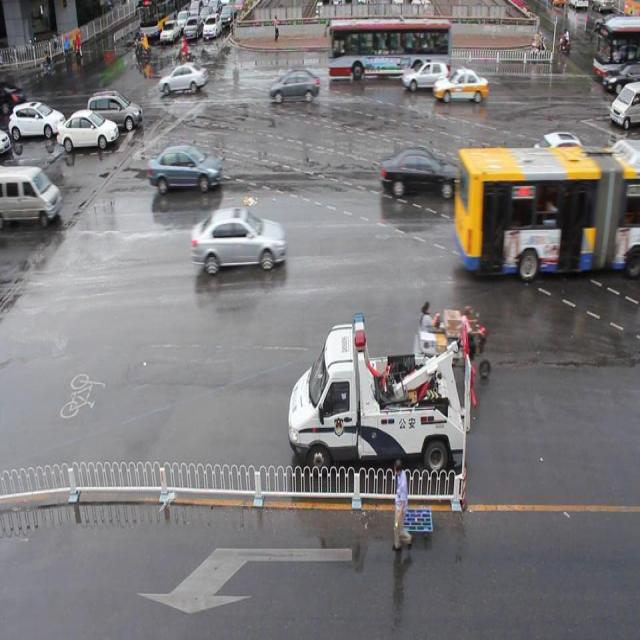car: (190, 206, 285, 272), (380, 145, 462, 199), (148, 146, 220, 191), (529, 129, 591, 173), (433, 66, 487, 105), (267, 69, 320, 104), (159, 64, 207, 97), (401, 60, 447, 93)
van: (455, 141, 640, 270), (326, 16, 450, 80)
